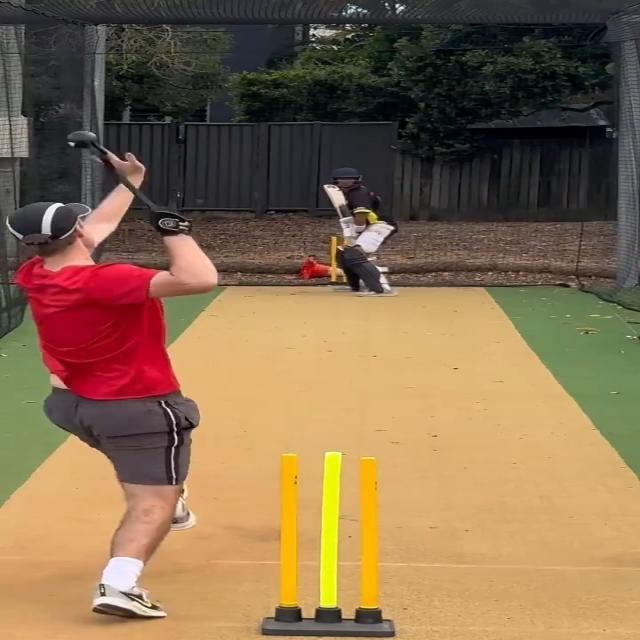stump: (263, 452, 397, 638)
